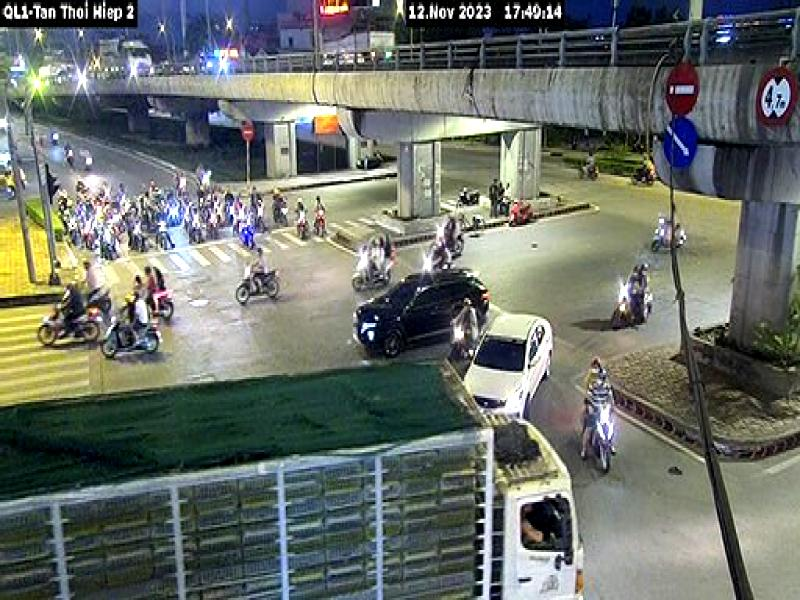truck: (0, 354, 586, 600)
